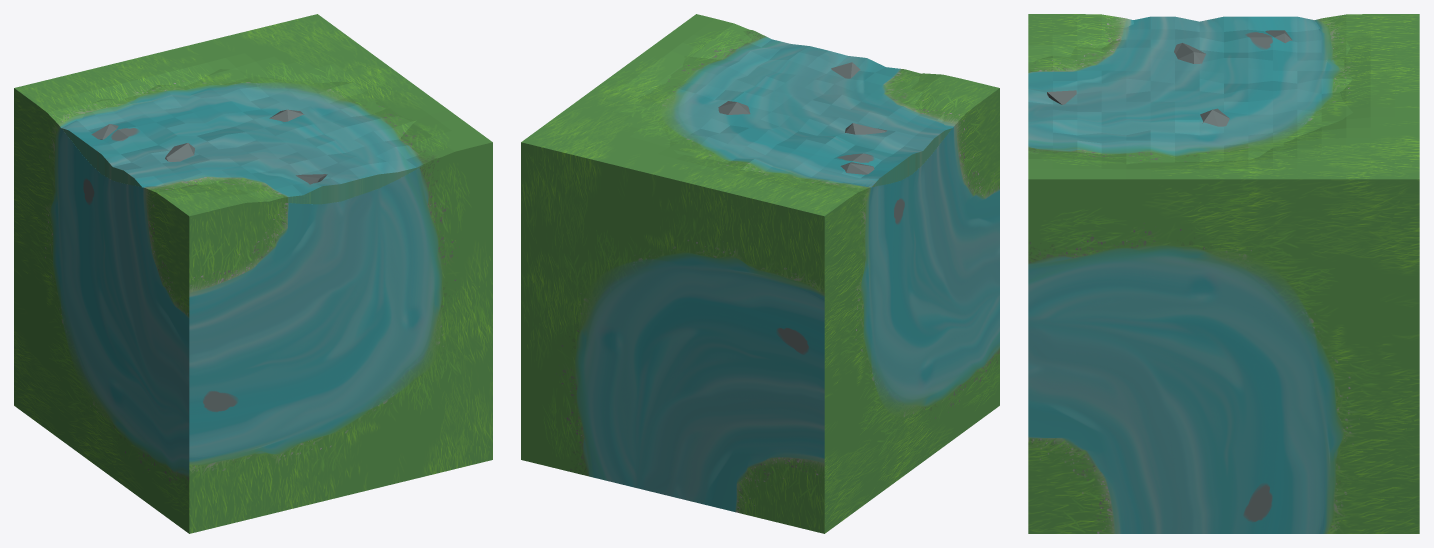
The model's file is TileRekaOvinek.fbx.
3 views of the same model, side by side, from view 1: azimuth 30°, elevation 25°; view 2: azimuth 150°, elevation 25°; view 3: azimuth 270°, elevation 25° (orthographic). The views are drawn at different scales.
Visible parts, largest first — view 1: Plane; view 2: Plane; view 3: Plane.
Boxes of the visible parts, box(x1,y1,x2,y2) form: Plane: box(14, 14, 492, 533); Plane: box(521, 14, 999, 533); Plane: box(1028, 14, 1419, 533).
Size of the model in its own units: 200 by 201 by 200.
